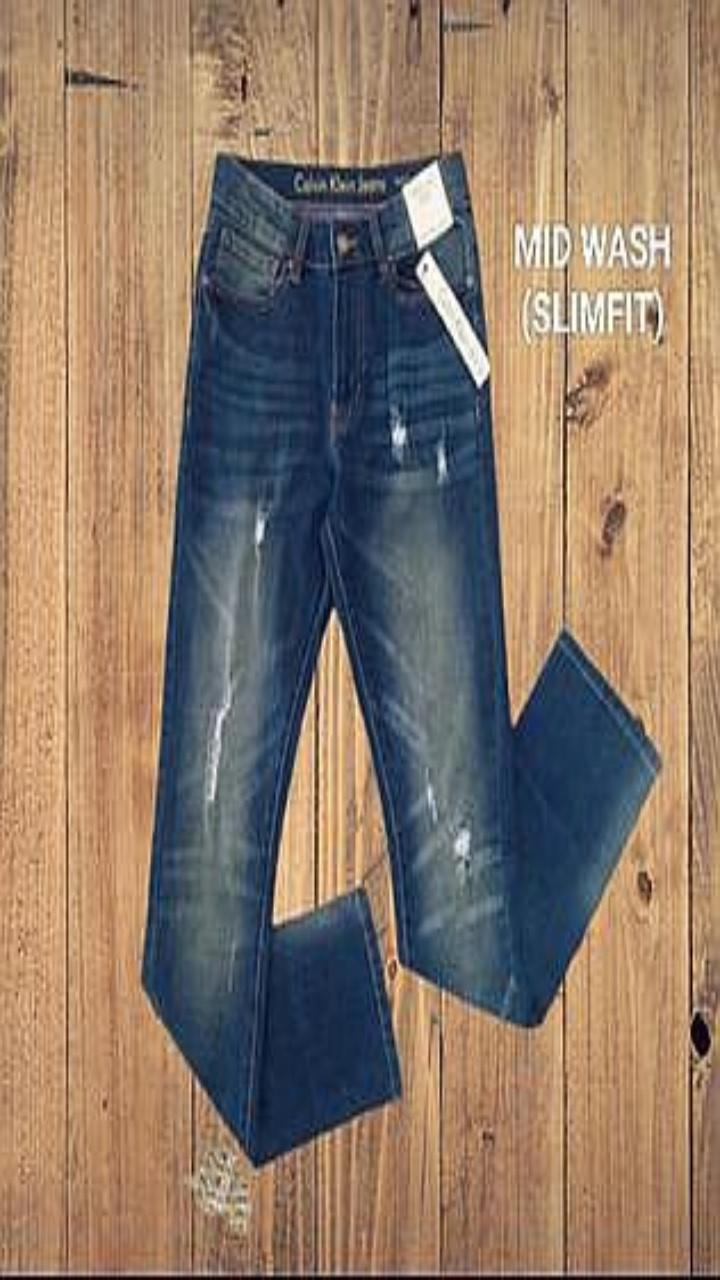Jeans: (142, 151, 659, 1164)
